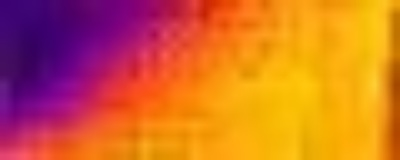Shadow: (1, 1, 160, 120)
